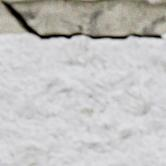brick: (135, 0, 165, 3), (5, 0, 37, 2), (75, 0, 95, 1)
broken_brick: (0, 34, 165, 165)
crack: (1, 0, 163, 42)
